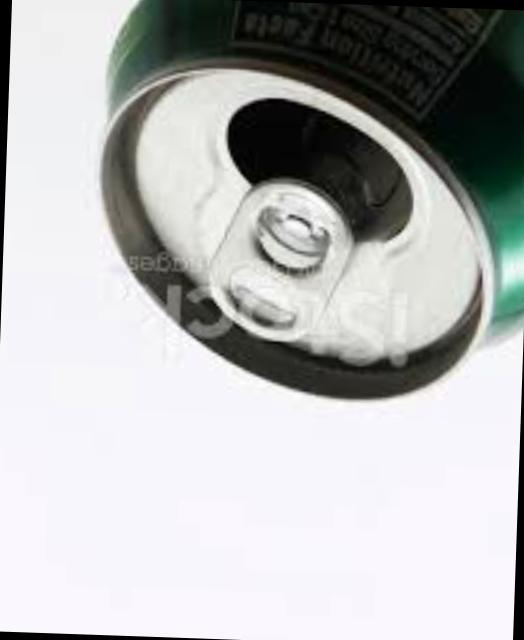metal: (106, 0, 524, 402)
